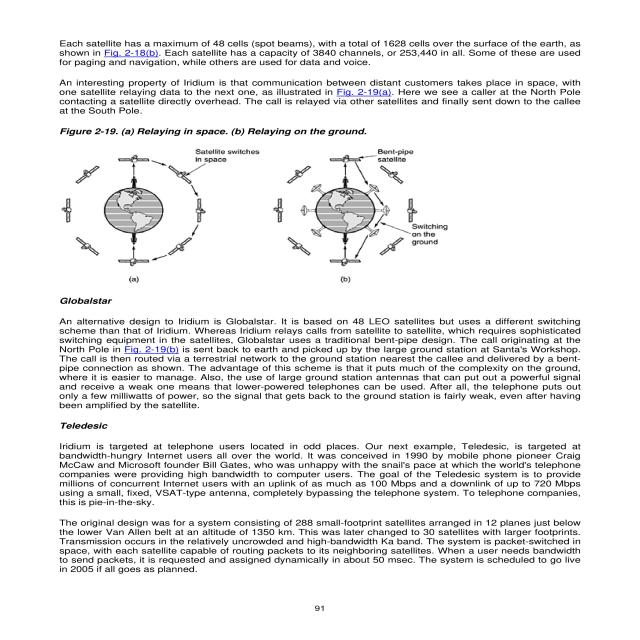diagram: (49, 129, 472, 312)
